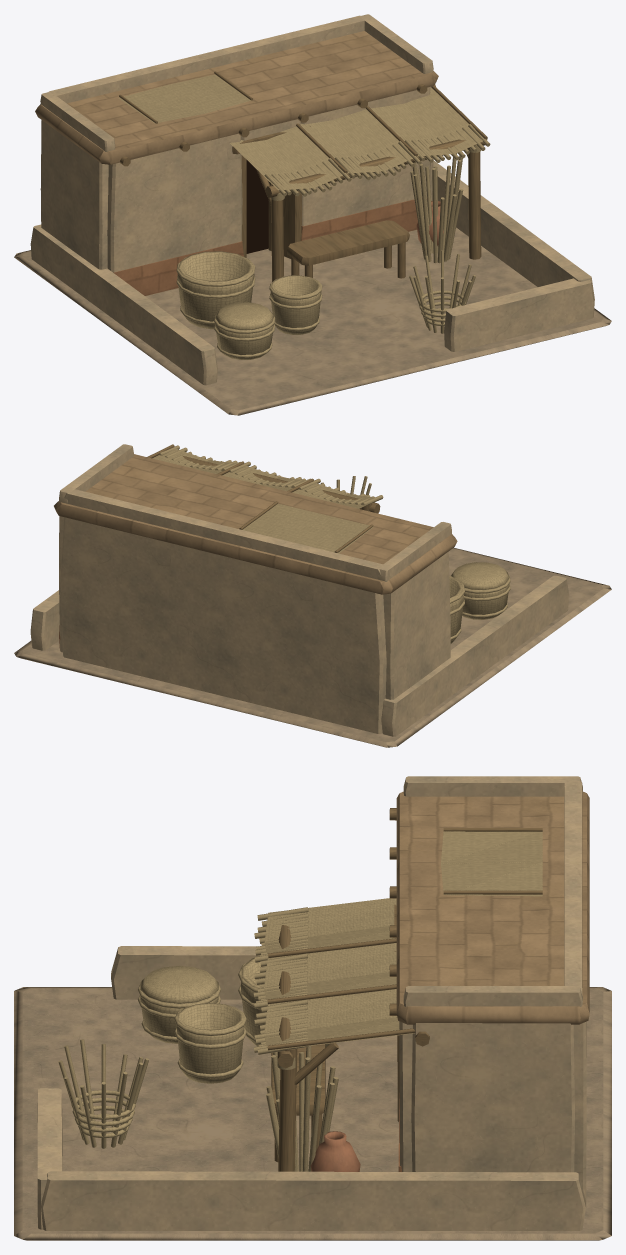
The model's file is basketry.glb.
The picture shows the model from 3 angles, top to bottom: view 1: azimuth 30°, elevation 25°; view 2: azimuth 150°, elevation 25°; view 3: azimuth 270°, elevation 25°; orthographic projection. The views are drawn at different scales.
Visible parts, largest first — view 1: original-basketry-warm-clay-plaster, original-basketry-reed-mat, original-basketry-alluvial-earth, original-basketry-game-raw-brick-facing, original-basketry-worn-timber, original-basketry-game-fired-brick-facing, original-basketry-game-door-shadow; view 2: original-basketry-warm-clay-plaster, original-basketry-game-raw-brick-facing, original-basketry-alluvial-earth, original-basketry-reed-mat, original-basketry-worn-timber; view 3: original-basketry-warm-clay-plaster, original-basketry-alluvial-earth, original-basketry-reed-mat, original-basketry-game-raw-brick-facing, original-basketry-worn-timber, original-basketry-fired-pottery.
Boxes of the visible parts, bbox=[...] form: original-basketry-warm-clay-plaster: bbox=[30, 14, 594, 385]; original-basketry-reed-mat: bbox=[118, 74, 490, 359]; original-basketry-alluvial-earth: bbox=[14, 227, 611, 415]; original-basketry-game-raw-brick-facing: bbox=[35, 31, 438, 164]; original-basketry-worn-timber: bbox=[119, 71, 487, 281]; original-basketry-game-fired-brick-facing: bbox=[113, 198, 427, 295]; original-basketry-game-door-shadow: bbox=[246, 160, 268, 253]; original-basketry-warm-clay-plaster: bbox=[30, 444, 569, 736]; original-basketry-game-raw-brick-facing: bbox=[54, 454, 457, 594]; original-basketry-alluvial-earth: bbox=[14, 548, 611, 747]; original-basketry-reed-mat: bbox=[152, 445, 510, 643]; original-basketry-worn-timber: bbox=[147, 444, 380, 552]; original-basketry-warm-clay-plaster: bbox=[37, 776, 586, 1230]; original-basketry-alluvial-earth: bbox=[14, 987, 611, 1240]; original-basketry-reed-mat: bbox=[58, 831, 542, 1171]; original-basketry-game-raw-brick-facing: bbox=[396, 791, 589, 1024]; original-basketry-worn-timber: bbox=[267, 808, 542, 1171]; original-basketry-fired-pottery: bbox=[310, 1131, 360, 1171].
Size of the model in its own units: 5.37 by 2.24 by 5.37.
8 materials, 7 textured.
